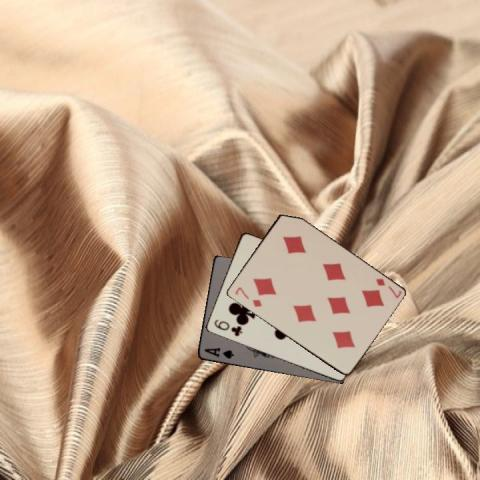6c: (211, 316, 243, 338)
7d: (232, 284, 263, 309), (372, 276, 402, 300)
As: (201, 345, 235, 360)
